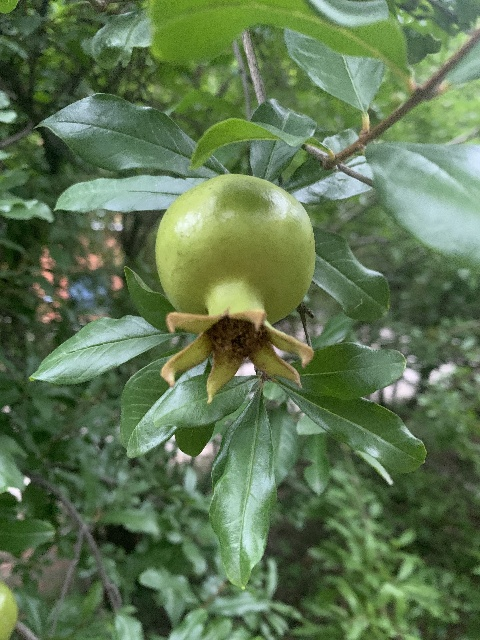mid-growth: (154, 172, 317, 404)
